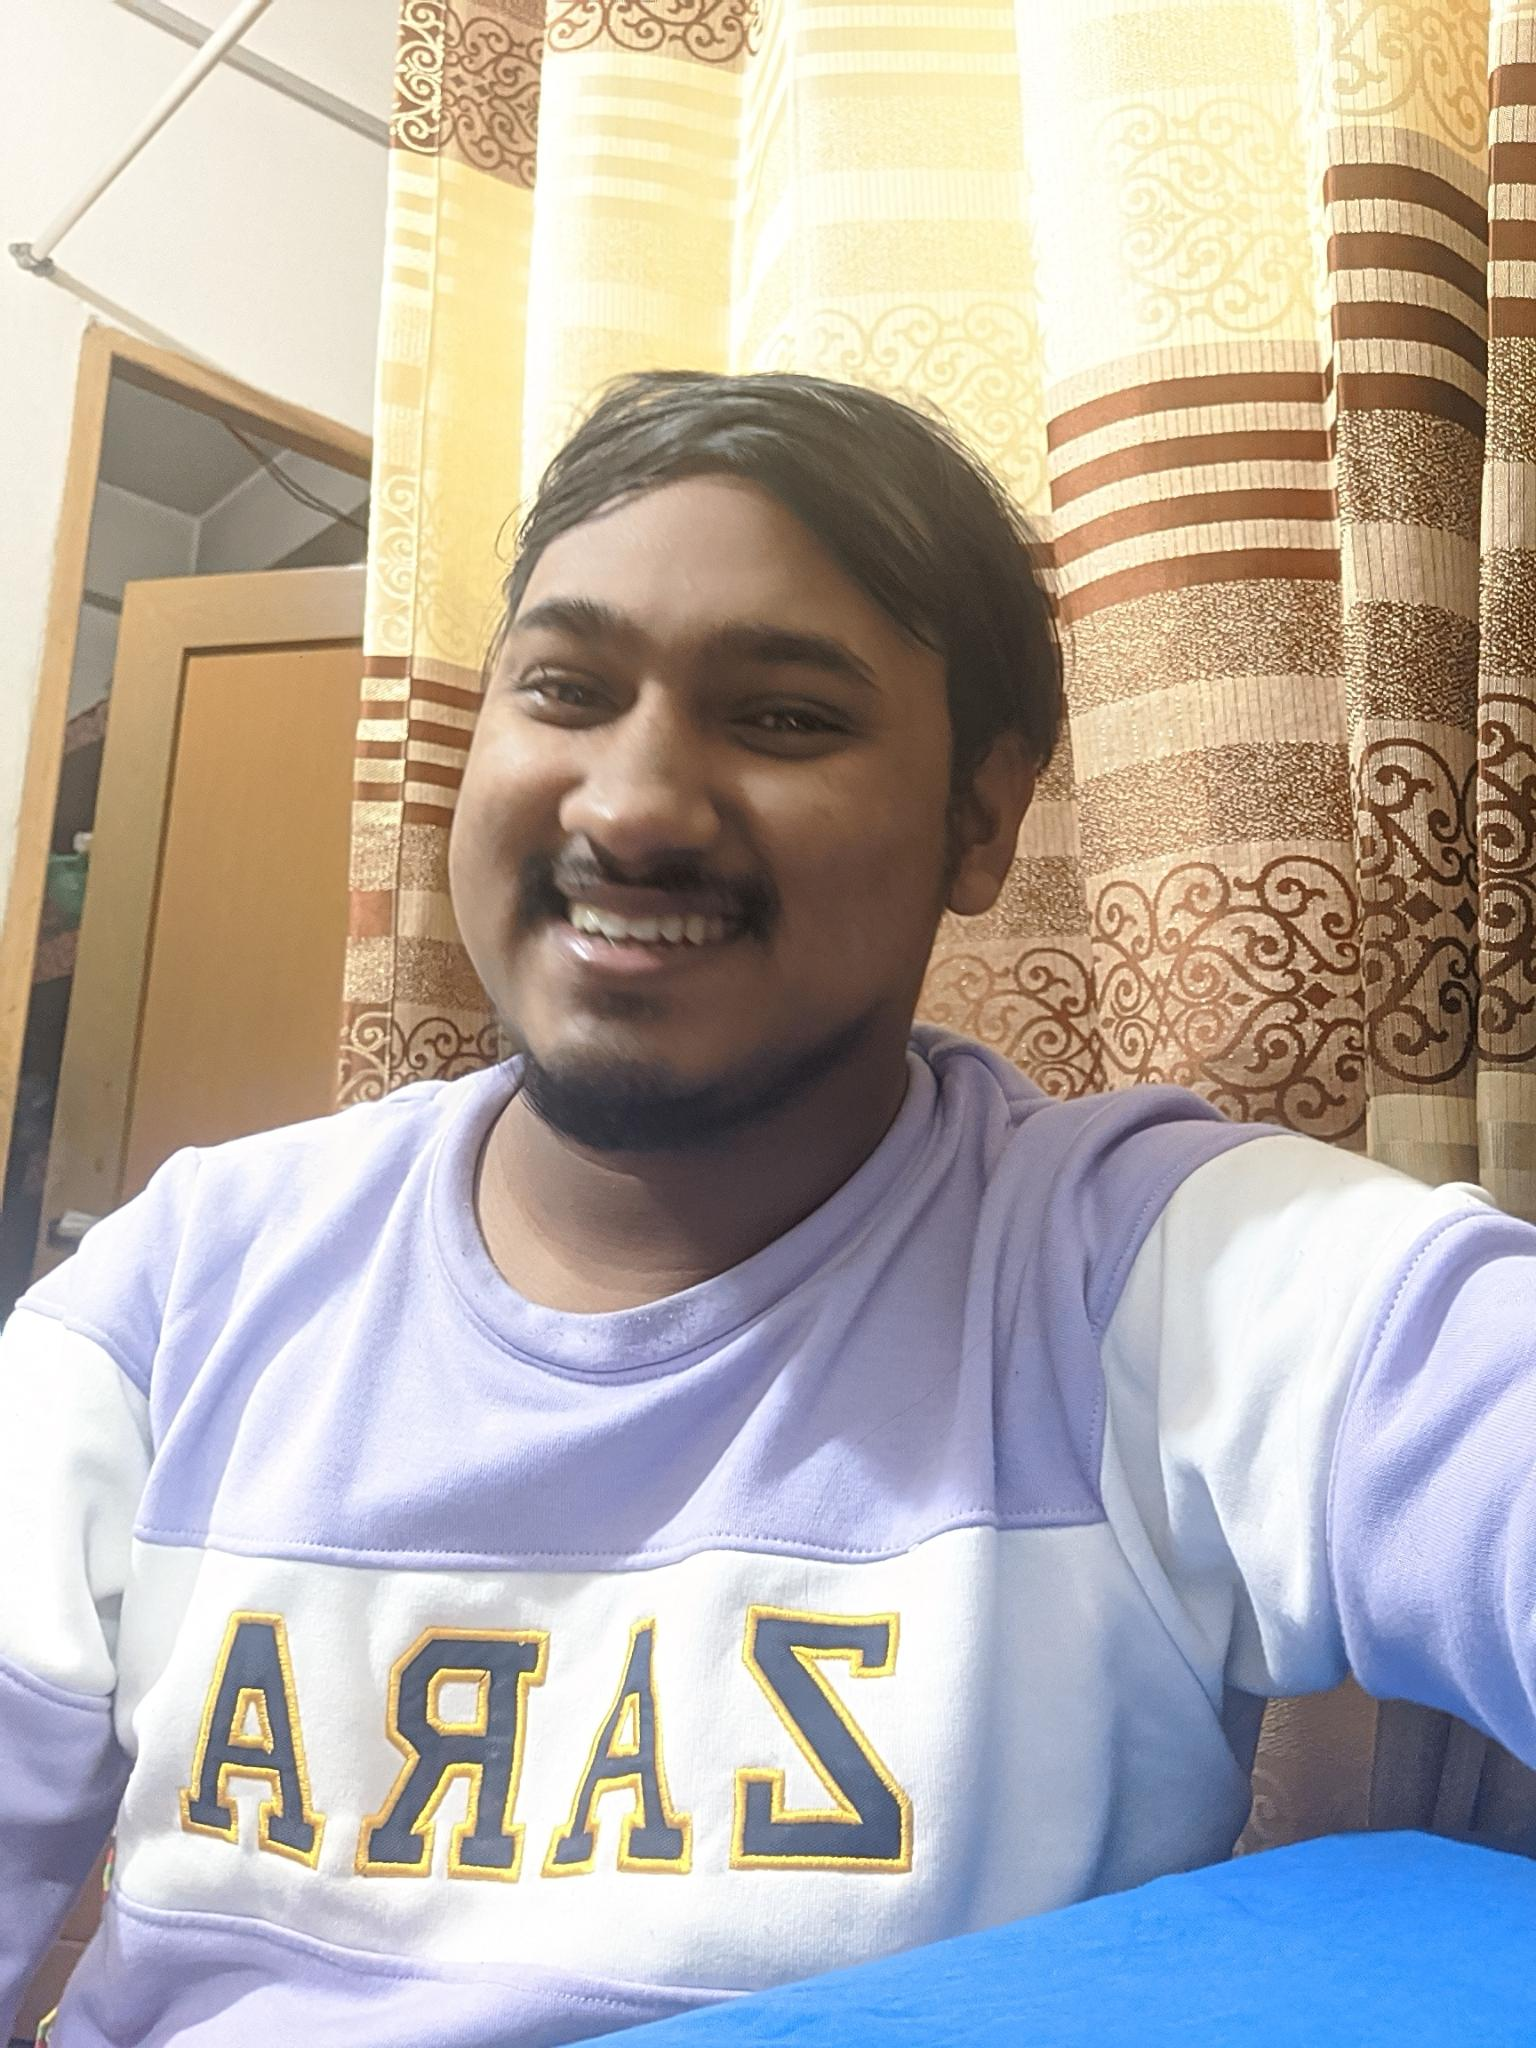Happy: (440, 548, 945, 1108)
